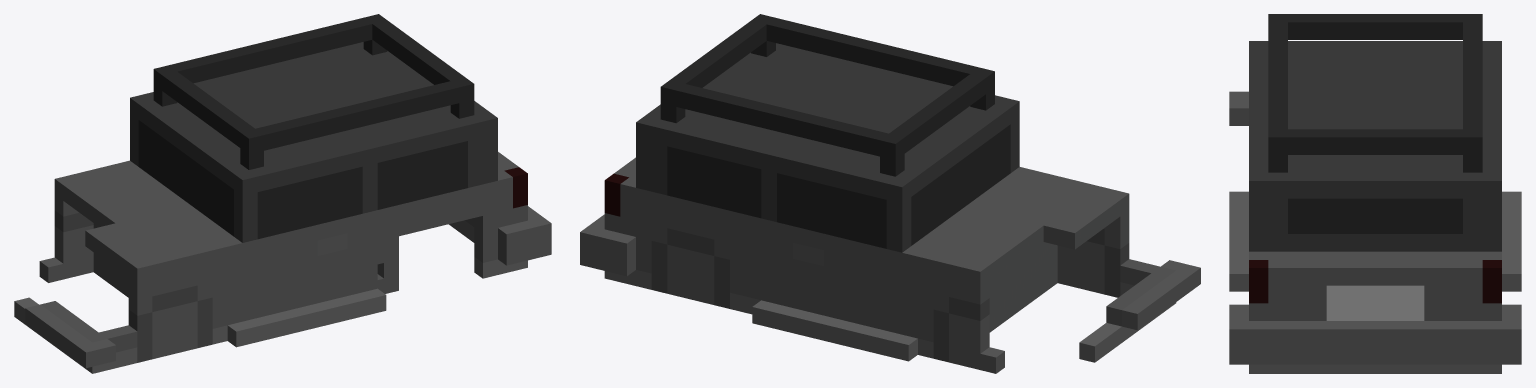
The model's file is voiture2whitedestroyed.obj.
3 views of the same model, side by side, from view 1: azimuth 30°, elevation 25°; view 2: azimuth 150°, elevation 25°; view 3: azimuth 270°, elevation 25° (orthographic). The views are drawn at different scales.
Parts seen in each view (by area): view 1: voiture2whitedestroyed; view 2: voiture2whitedestroyed; view 3: voiture2whitedestroyed.
Boxes of the visible parts, x1=… form: voiture2whitedestroyed: x1=14, y1=14, x2=551, y2=373; voiture2whitedestroyed: x1=580, y1=14, x2=1200, y2=373; voiture2whitedestroyed: x1=1229, y1=14, x2=1521, y2=373.
Bounding box in the file's own units: 31 × 12 × 15.
Materials: 1 (1 with a texture image).
